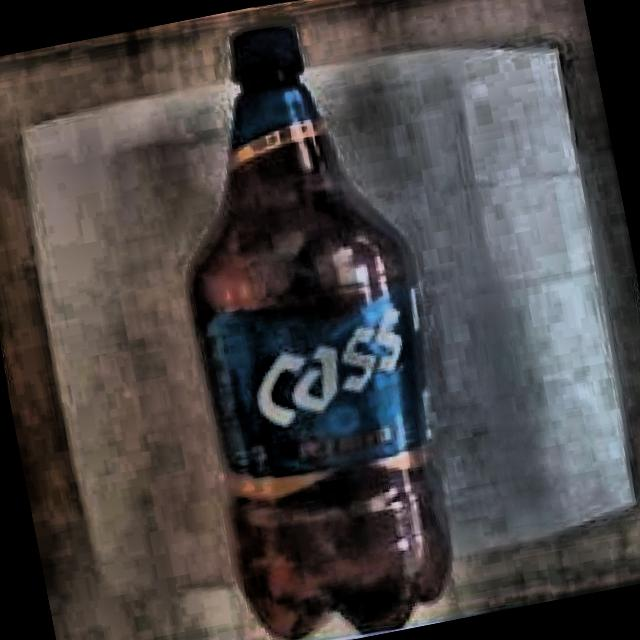plastic bottle: (189, 25, 452, 640)
